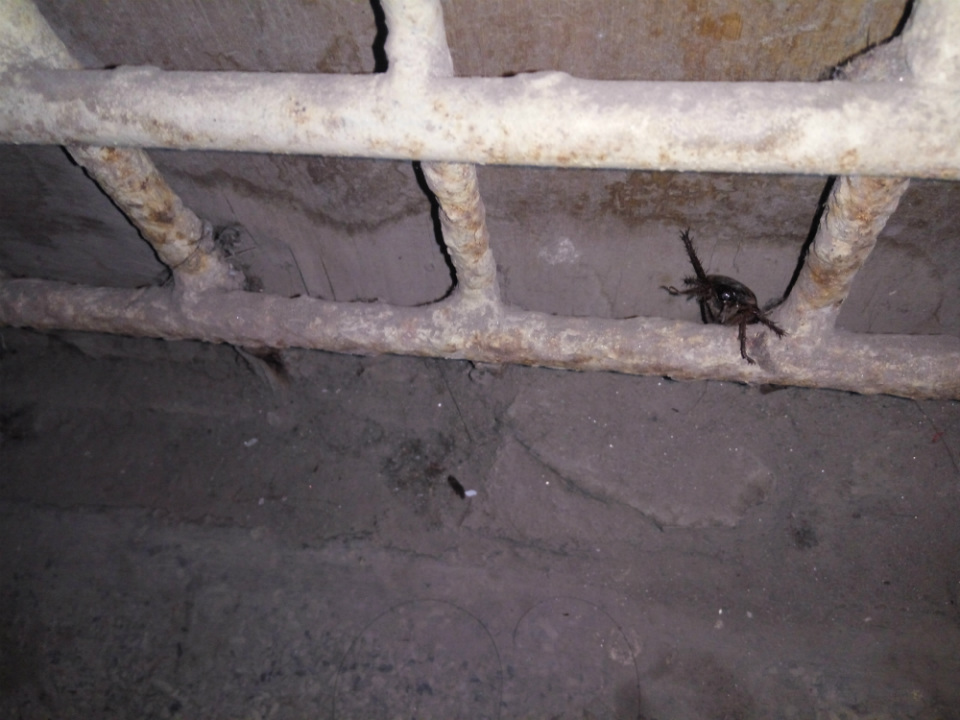cockroach: (639, 222, 802, 361)
